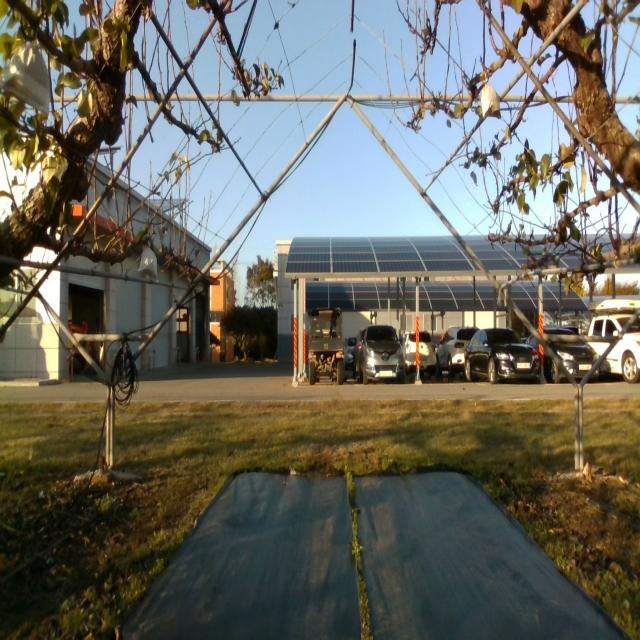pearbags: (0, 42, 49, 114), (481, 72, 501, 119), (138, 240, 158, 282)
